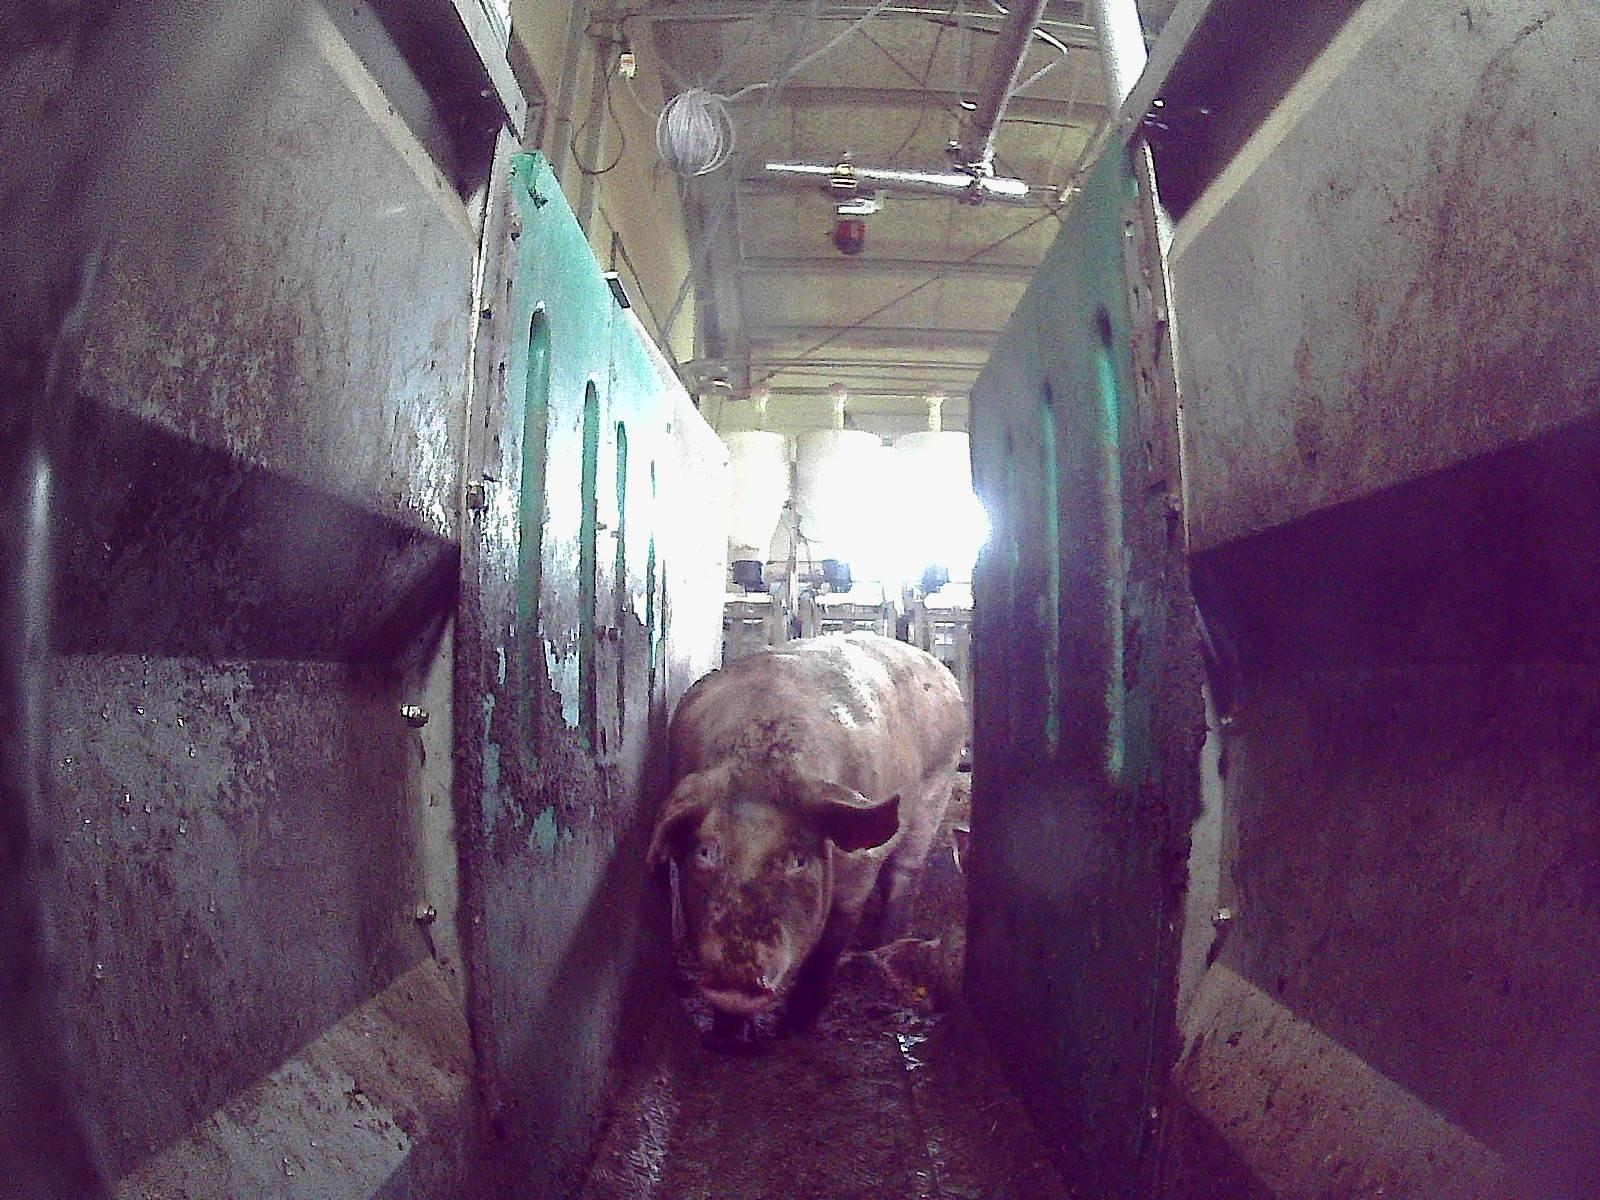Face: (669, 761, 837, 1012)
